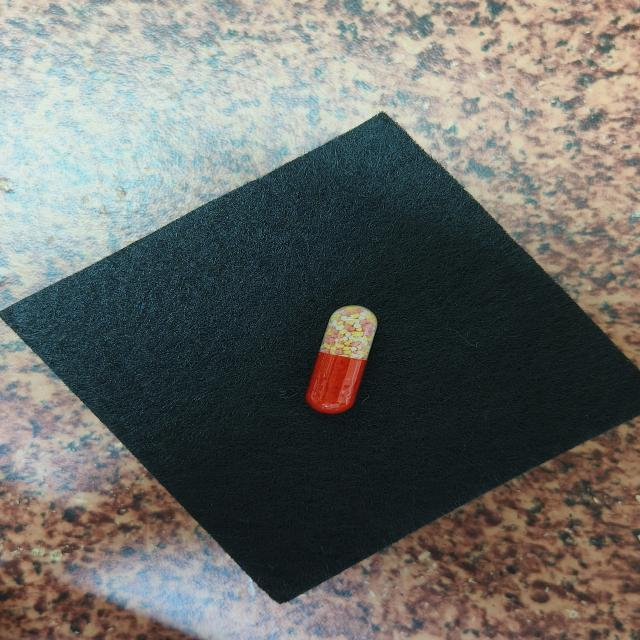Intact Capsule: (305, 305, 377, 414)
